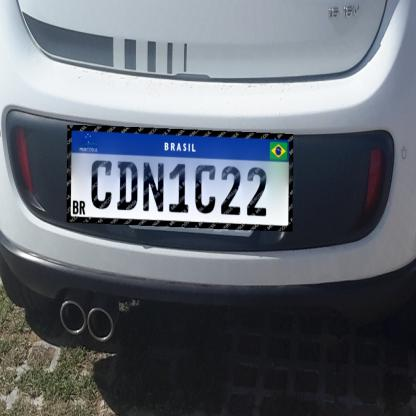PlacaM: (67, 125, 293, 232)
